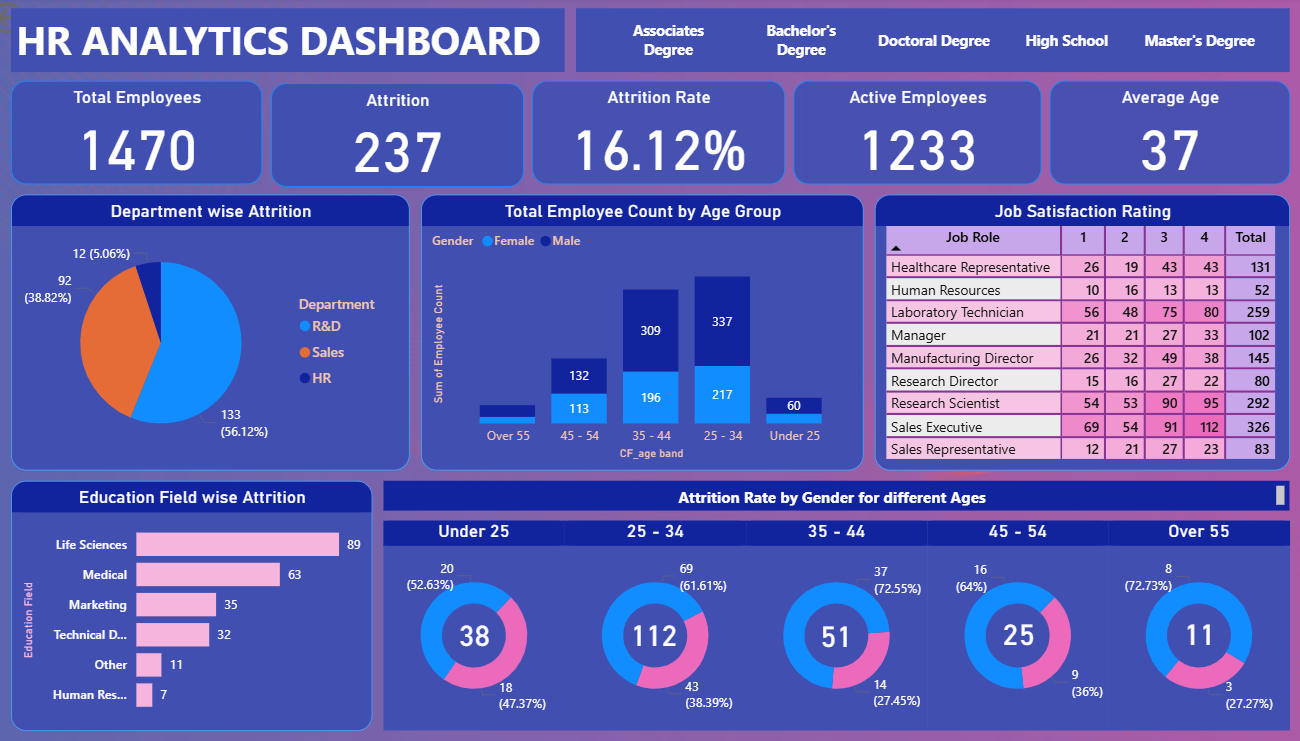

The dashboard page shown, as its layout file describes it:
{"tool":"powerbi","page":{"name":"Page 1","canvas":[1280,720],"ordinal":0},"visuals":[{"type":"card","title":"Total Employees","fields":{"Values":["Sum(HR data.Employee Count)"]},"box":[24.1,80.8,242.5,100.1],"z":0},{"type":"card","title":"Attrition","fields":{"Values":["Sum(HR data.Attrition Count)"]},"box":[275.1,83.2,243.7,100.1],"z":1000},{"type":"card","title":"Attrition Rate","fields":{"Values":["HR data.Attrition Rate"]},"box":[527.2,80.8,243.7,100.1],"z":2000},{"type":"card","title":"Active Employees","fields":{"Values":["HR data.Active Employees"]},"box":[779.4,80.8,238.9,100.1],"z":3000},{"type":"card","title":"Average Age","fields":{"Values":["Avg(HR data.Age)"]},"box":[1026.7,80.8,231.6,100.1],"z":4000},{"type":"pieChart","title":"Department wise Attrition","fields":{"Category":["HR data.Department"],"Y":["Sum(HR data.Attrition Count)"]},"box":[24.1,190.6,384.9,266.6],"z":5000},{"type":"columnChart","title":"Total Employee Count by Age Group","fields":{"Category":["HR data.CF_age band"],"Y":["Sum(HR data.Employee Count)"],"Series":["HR data.Gender"]},"box":[419.8,190.6,427.1,266.6],"z":6000},{"type":"pivotTable","title":"Job Satisfaction Rating","fields":{"Values":["Sum(HR data.Employee Count)"],"Columns":["HR data.Job Satisfaction"],"Rows":["HR data.Job Role"]},"box":[857.8,190.6,400.5,266.6],"z":7000},{"type":"actionButton","box":[0,0,100,40],"z":8000},{"type":"barChart","title":"Education Field wise Attrition","fields":{"Category":["HR data.Education Field"],"Y":["Sum(HR data.Attrition Count)"]},"box":[24.1,466.9,348.7,241.3],"z":9000},{"type":"textbox","box":[383.6,466.9,874.7,29],"z":10000},{"type":"donutChart","title":"Under 25","fields":{"Category":["HR data.Gender"],"Y":["Sum(HR data.Attrition Count)"],"Series":["HR data.CF_age band"]},"box":[383.6,505.5,174.9,202.7],"z":11000},{"type":"donutChart","title":"Over 55","fields":{"Category":["HR data.Gender"],"Y":["Sum(HR data.Attrition Count)"],"Series":["HR data.CF_age band"]},"box":[1083.4,505.5,174.9,202.7],"z":12000},{"type":"donutChart","title":"45 - 54","fields":{"Category":["HR data.Gender"],"Y":["Sum(HR data.Attrition Count)"],"Series":["HR data.CF_age band"]},"box":[908.4,505.5,174.9,202.7],"z":13000},{"type":"donutChart","title":"35 - 44","fields":{"Category":["HR data.Gender"],"Y":["Sum(HR data.Attrition Count)"],"Series":["HR data.CF_age band"]},"box":[733.5,505.5,174.9,202.7],"z":14000},{"type":"donutChart","title":"25 - 34","fields":{"Category":["HR data.Gender"],"Y":["Sum(HR data.Attrition Count)"],"Series":["HR data.CF_age band"]},"box":[558.6,505.5,174.9,202.7],"z":15000},{"type":"textbox","box":[24.1,10.9,534.5,61.5],"z":16000},{"type":"slicer","fields":{"Values":["HR data.Education"]},"box":[569.4,10.9,688.9,61.5],"z":17000},{"type":"card","fields":{"Values":["Sum(HR data.Attrition Count)"]},"box":[451.2,595,41,41],"z":18000},{"type":"card","fields":{"Values":["Sum(HR data.Attrition Count)"]},"box":[1150.9,595,41,39.8],"z":19000},{"type":"card","fields":{"Values":["Sum(HR data.Attrition Count)"]},"box":[972,595,49.4,39.8],"z":20000},{"type":"card","fields":{"Values":["Sum(HR data.Attrition Count)"]},"box":[798.7,591,43.4,49.5],"z":21000},{"type":"card","fields":{"Values":["Sum(HR data.Attrition Count)"]},"box":[617,590,56.3,50.8],"z":22000}]}

Visuals, with their boxes in screenshot pixels (x1, y1, x2, y2), scaled from the page's 1280x720 canvas onto the 1300x741 screenshot:
"Total Employees" card: (x1=24, y1=83, x2=271, y2=186)
"Attrition" card: (x1=279, y1=86, x2=527, y2=189)
"Attrition Rate" card: (x1=535, y1=83, x2=783, y2=186)
"Active Employees" card: (x1=792, y1=83, x2=1034, y2=186)
"Average Age" card: (x1=1043, y1=83, x2=1278, y2=186)
"Department wise Attrition" pieChart: (x1=24, y1=196, x2=415, y2=471)
"Total Employee Count by Age Group" columnChart: (x1=426, y1=196, x2=860, y2=471)
"Job Satisfaction Rating" pivotTable: (x1=871, y1=196, x2=1278, y2=471)
actionButton: (x1=0, y1=0, x2=102, y2=41)
"Education Field wise Attrition" barChart: (x1=24, y1=481, x2=379, y2=729)
textbox: (x1=390, y1=481, x2=1278, y2=510)
"Under 25" donutChart: (x1=390, y1=520, x2=567, y2=729)
"Over 55" donutChart: (x1=1100, y1=520, x2=1278, y2=729)
"45 - 54" donutChart: (x1=923, y1=520, x2=1100, y2=729)
"35 - 44" donutChart: (x1=745, y1=520, x2=923, y2=729)
"25 - 34" donutChart: (x1=567, y1=520, x2=745, y2=729)
textbox: (x1=24, y1=11, x2=567, y2=75)
slicer - HR data.Education: (x1=578, y1=11, x2=1278, y2=75)
card - Sum(HR data.Attrition Count): (x1=458, y1=612, x2=500, y2=655)
card - Sum(HR data.Attrition Count): (x1=1169, y1=612, x2=1211, y2=653)
card - Sum(HR data.Attrition Count): (x1=987, y1=612, x2=1037, y2=653)
card - Sum(HR data.Attrition Count): (x1=811, y1=608, x2=855, y2=659)
card - Sum(HR data.Attrition Count): (x1=627, y1=607, x2=684, y2=659)
